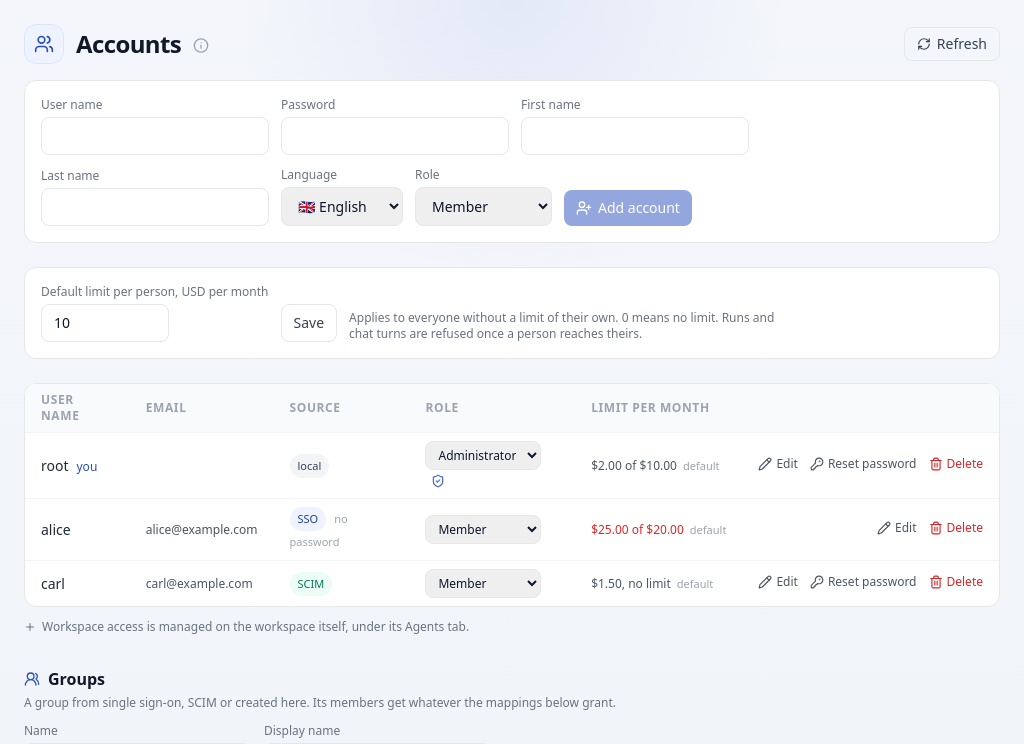
Test: Users page › edits an account's names and language in a window
Click the button with test id "edit-alice" at [897, 528], box [877,520,916,536]
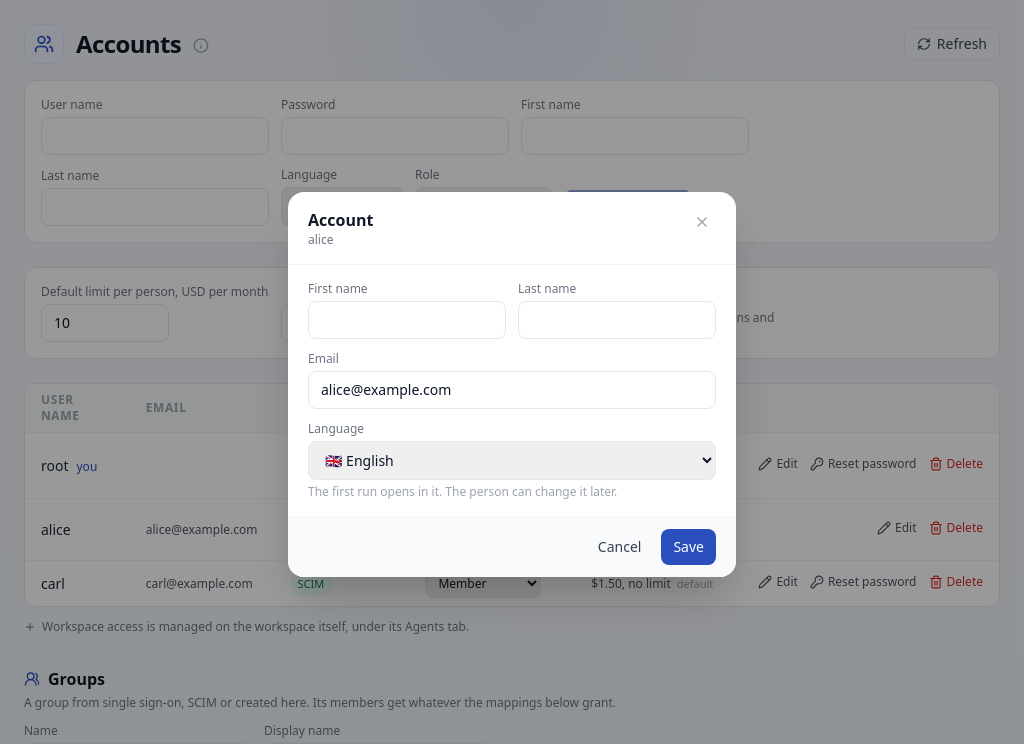
Type "Alice" into the field labelled "First name" at [407, 320], box [308,300,506,338]
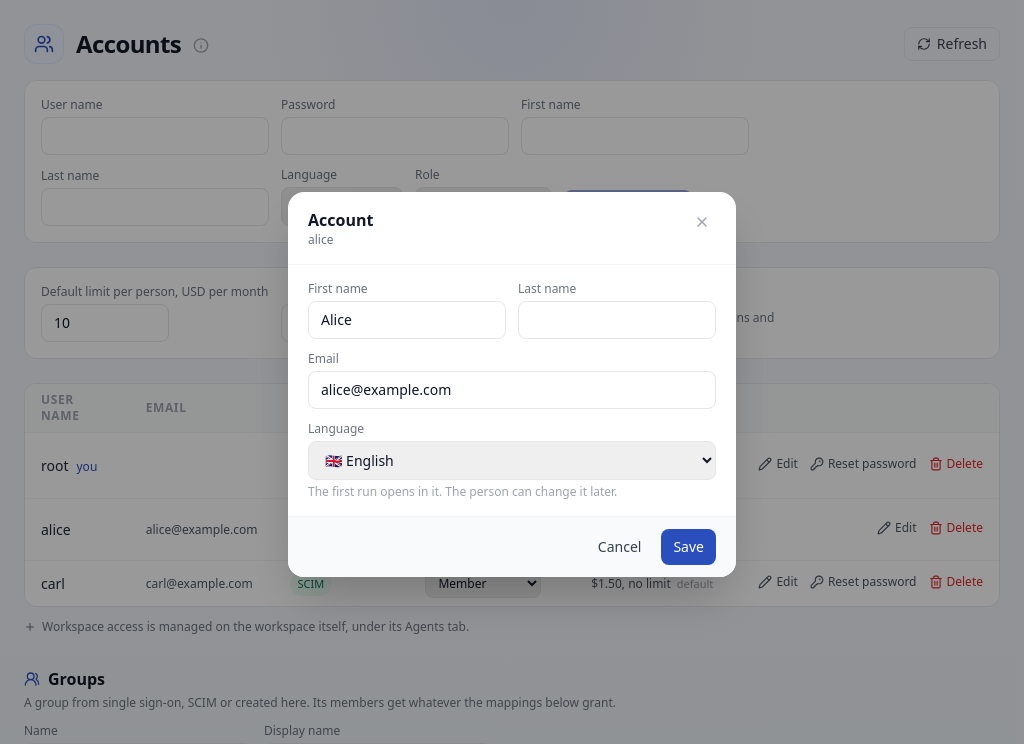
Type "Smith" into the field labelled "Last name" at [617, 320], box [518,300,716,338]
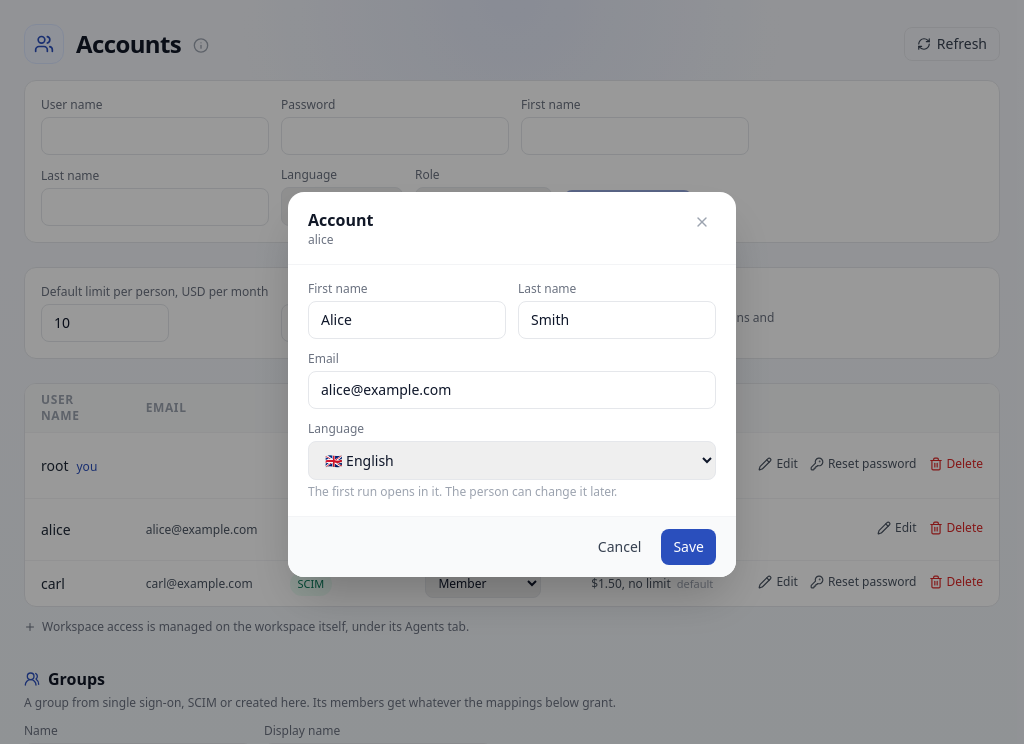
Select "🇩🇪 Deutsch" in the dropdown labelled "Language" at [512, 460], box [308,440,716,480]
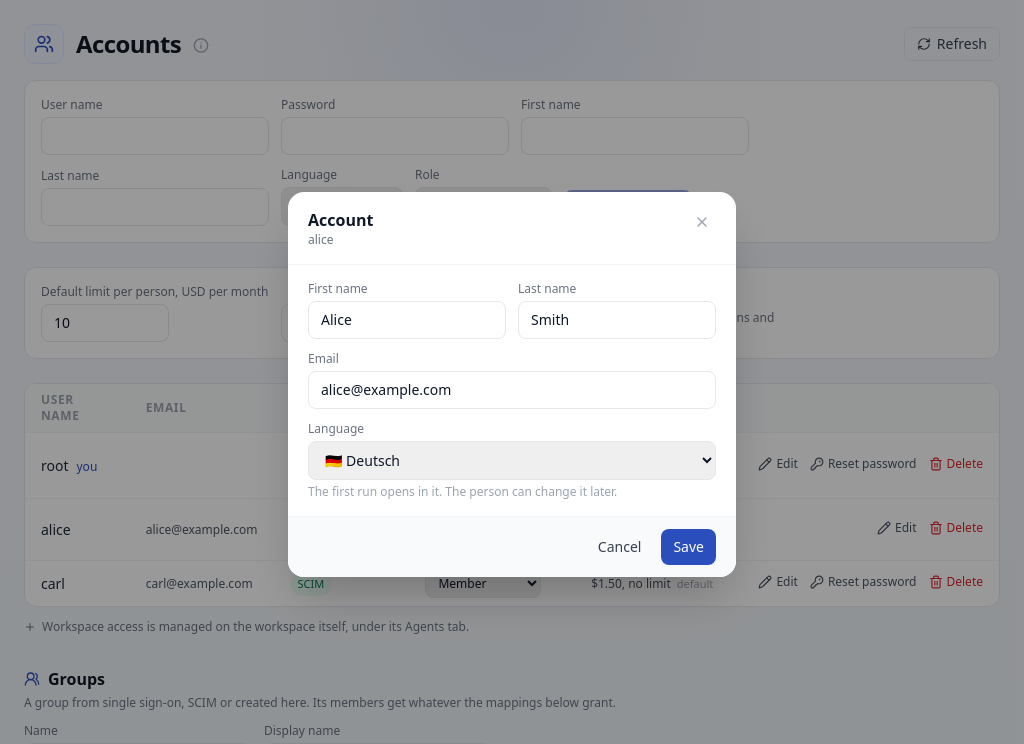
Click the button with test id "edit-user-save" at [689, 546], box [661,528,716,564]
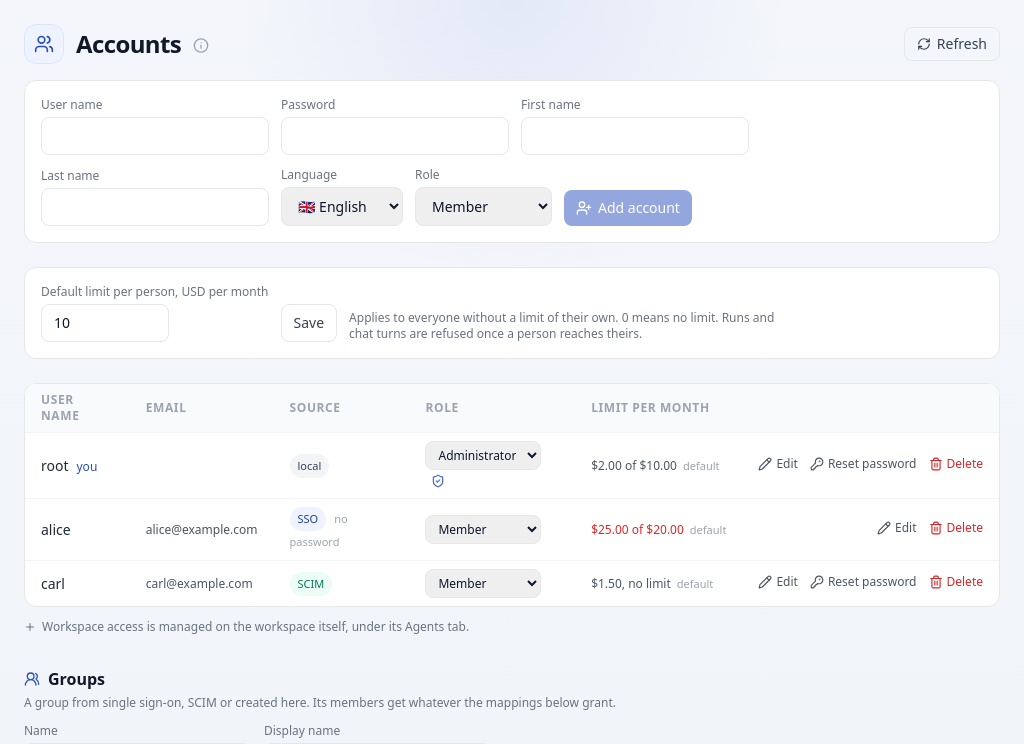
Expected: the dialog with test id "edit-user-modal" is gone
